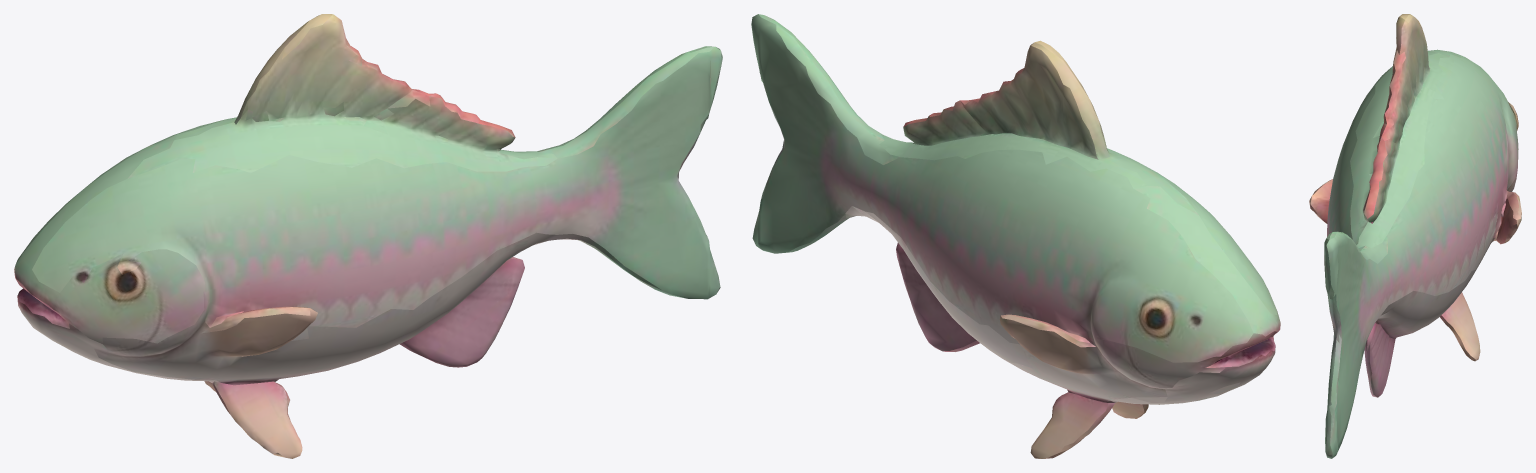
Rendered from fish_spring.glb.
3 renders of one model, left to right at view 1: azimuth 30°, elevation 25°; view 2: azimuth 150°, elevation 25°; view 3: azimuth 270°, elevation 25°, orthographic. The views are drawn at different scales.
Parts seen in each view (by area): view 1: item_fish_spring; view 2: item_fish_spring; view 3: item_fish_spring.
Part boxes in pixels (<box>): item_fish_spring: <box>14,14,722,458</box>; item_fish_spring: <box>751,14,1280,458</box>; item_fish_spring: <box>1309,14,1521,458</box>.
Size of the model in its own units: 1 by 0.6177 by 0.3315.
1 material, 1 textured.
